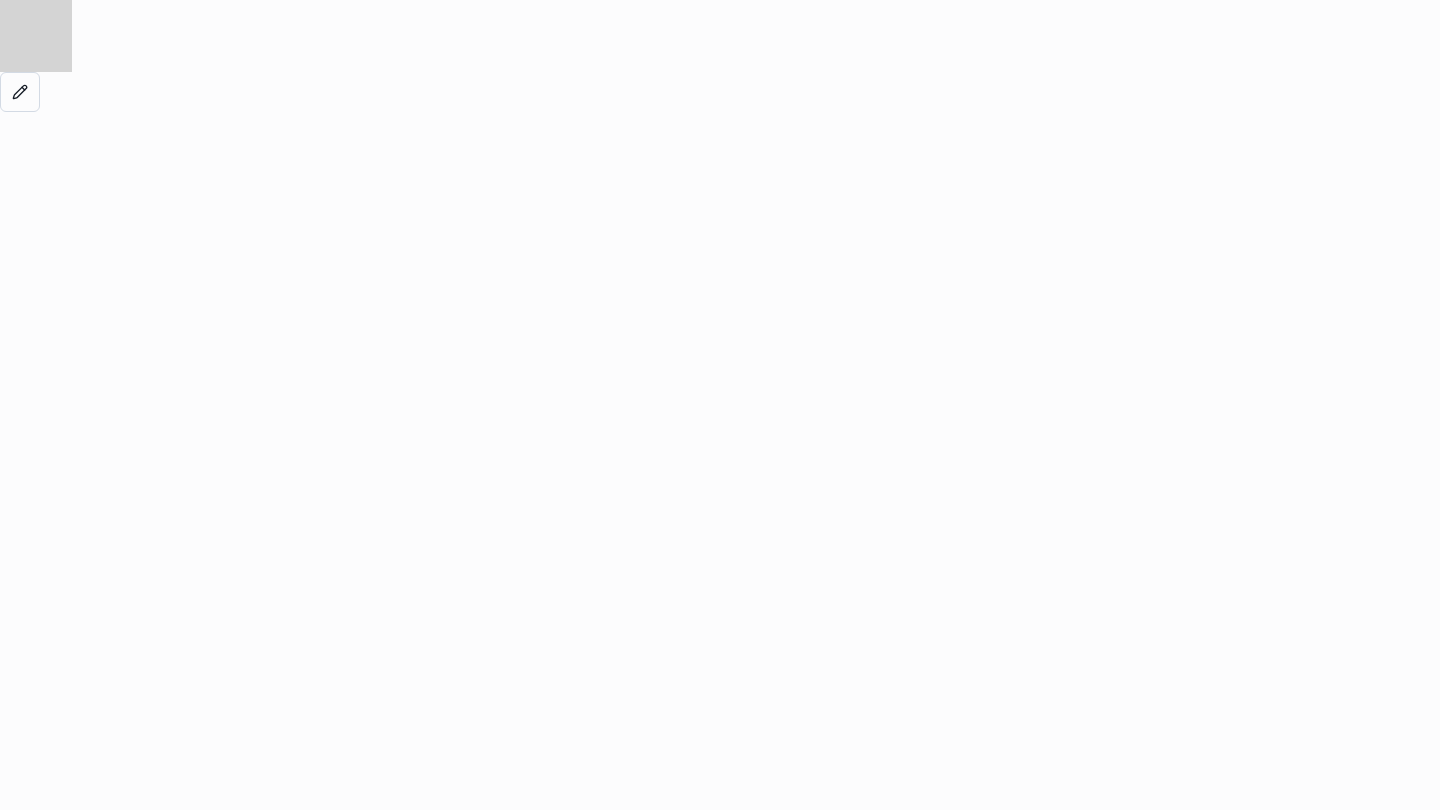
Logo-Bearbeitungsmenü › opens beside the logo instead of over it
Click the button named "Herstellerlogo bearbeiten".
click(20, 92)  # box [0,72,40,112]
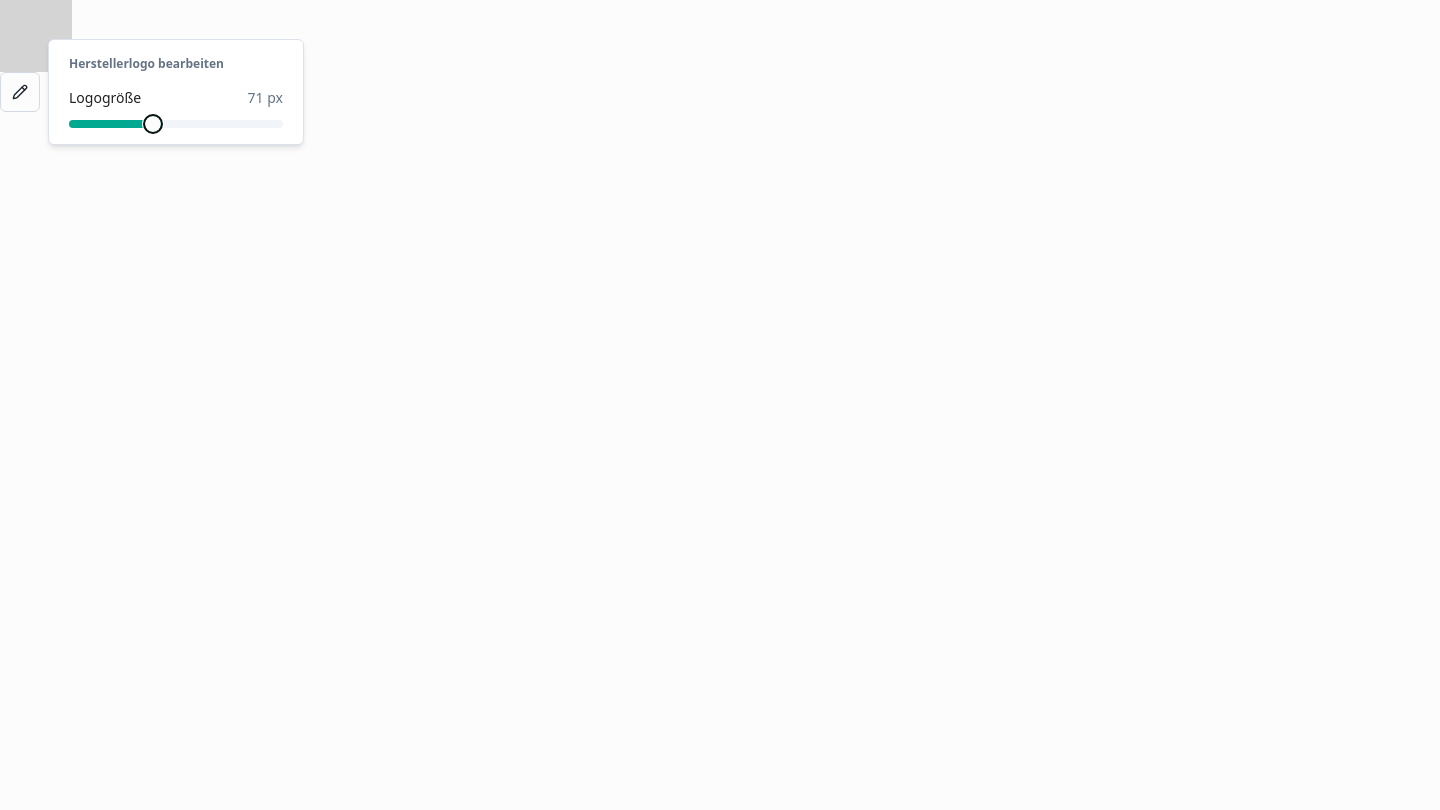
Now the dialog with class "lp-edit-menu" is shown, box [48,39,304,145]
